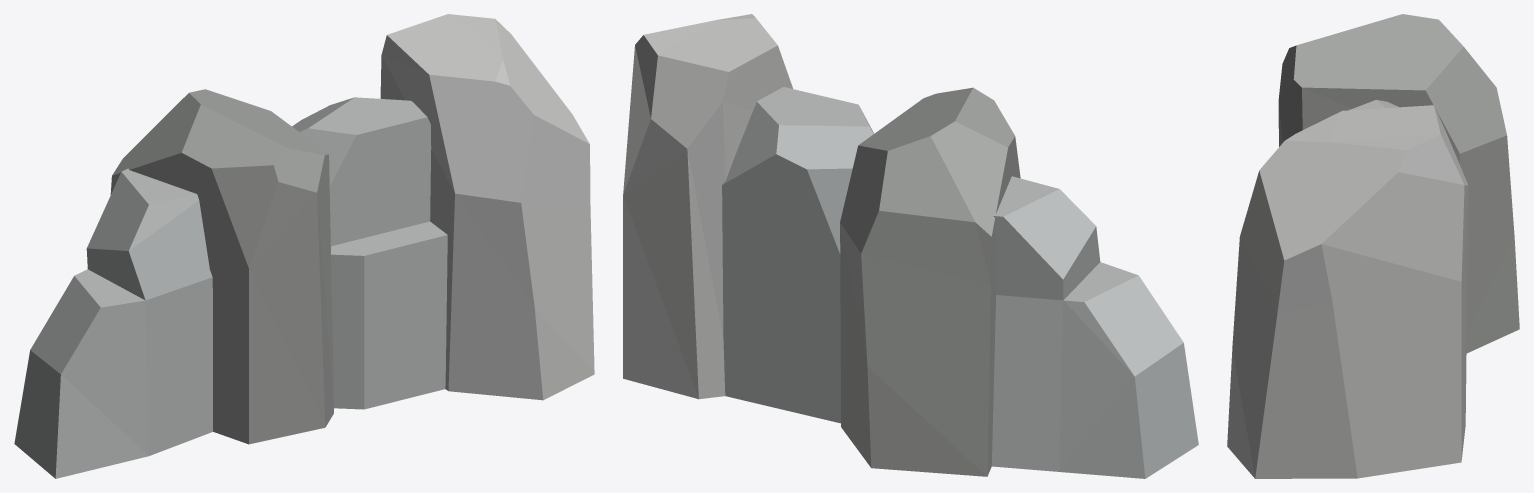
Rendered from Rock_Wall_02 5.fbx.
3 renders of one model, left to right at view 1: azimuth 30°, elevation 25°; view 2: azimuth 150°, elevation 25°; view 3: azimuth 270°, elevation 25°, orthographic. The views are drawn at different scales.
Parts seen in each view (by area): view 1: Rock_Wall_02; view 2: Rock_Wall_02; view 3: Rock_Wall_02.
Boxes of the visible parts, bbox=[...] form: Rock_Wall_02: bbox=[14, 14, 594, 478]; Rock_Wall_02: bbox=[623, 14, 1198, 478]; Rock_Wall_02: bbox=[1227, 14, 1519, 478].
Size of the model in its own units: 601 by 339 by 285.
